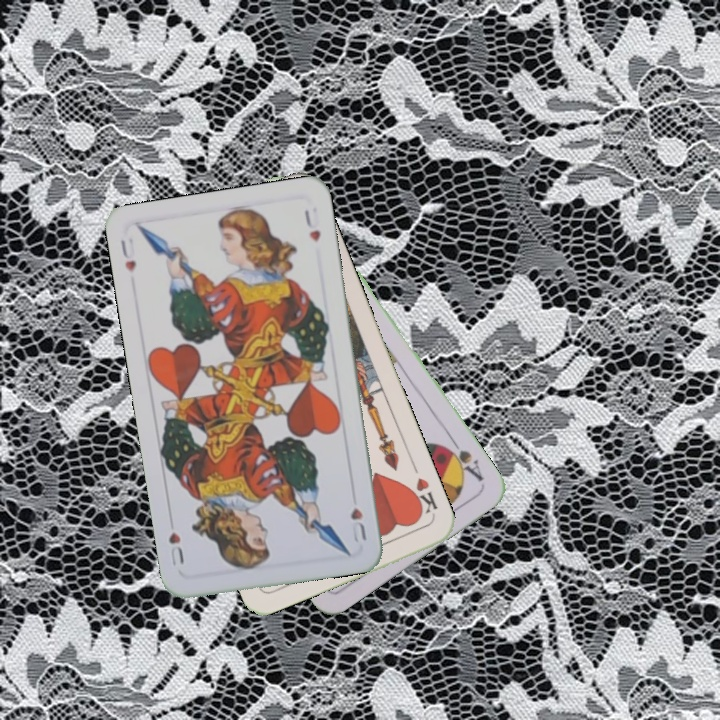HK: (405, 473, 440, 521)
HU: (116, 234, 139, 275), (347, 503, 369, 545)
SA: (439, 434, 487, 484)
